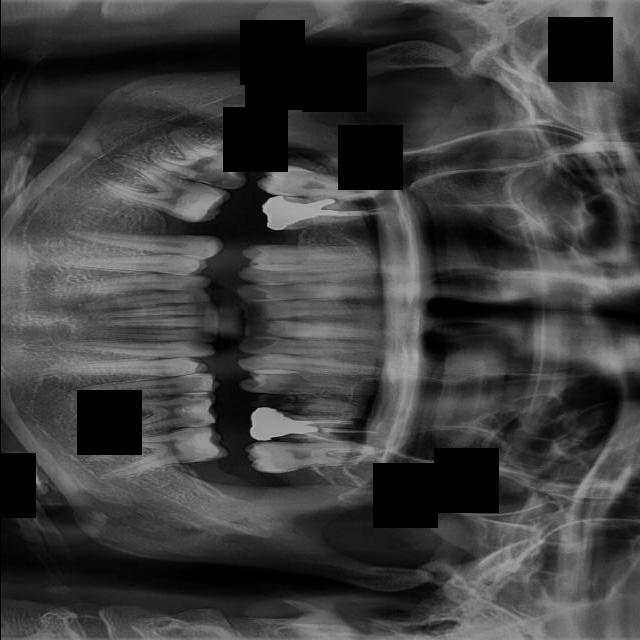72: (255, 393, 360, 417)
74: (303, 431, 353, 447), (334, 191, 384, 201), (321, 427, 378, 434), (340, 210, 396, 214), (312, 421, 352, 424)
NucleOSS Implant: (261, 186, 341, 232), (246, 404, 320, 453)
Sterngold Implant: (194, 164, 243, 192), (254, 391, 311, 410), (185, 392, 202, 401), (266, 245, 283, 252), (203, 455, 220, 462), (187, 421, 206, 426), (190, 426, 202, 433), (201, 239, 215, 244), (200, 248, 210, 253), (264, 322, 276, 325)
Straumann Implant: (181, 188, 225, 226), (185, 428, 218, 461), (183, 400, 213, 422)
